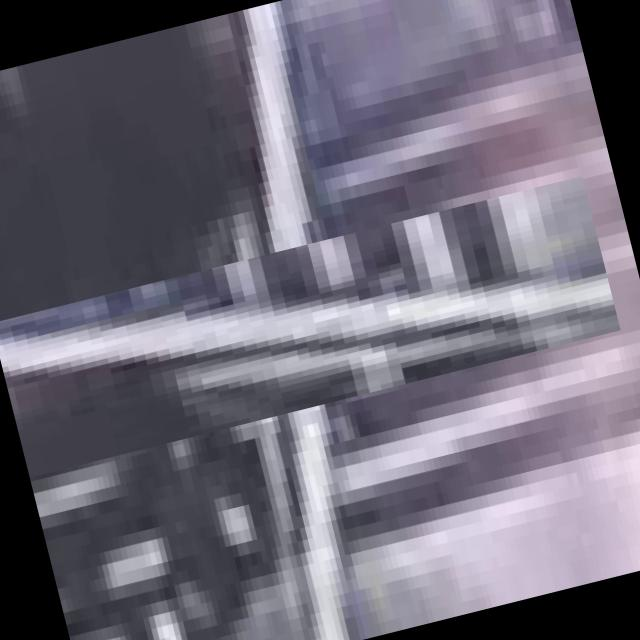stick: (51, 88, 534, 570)
